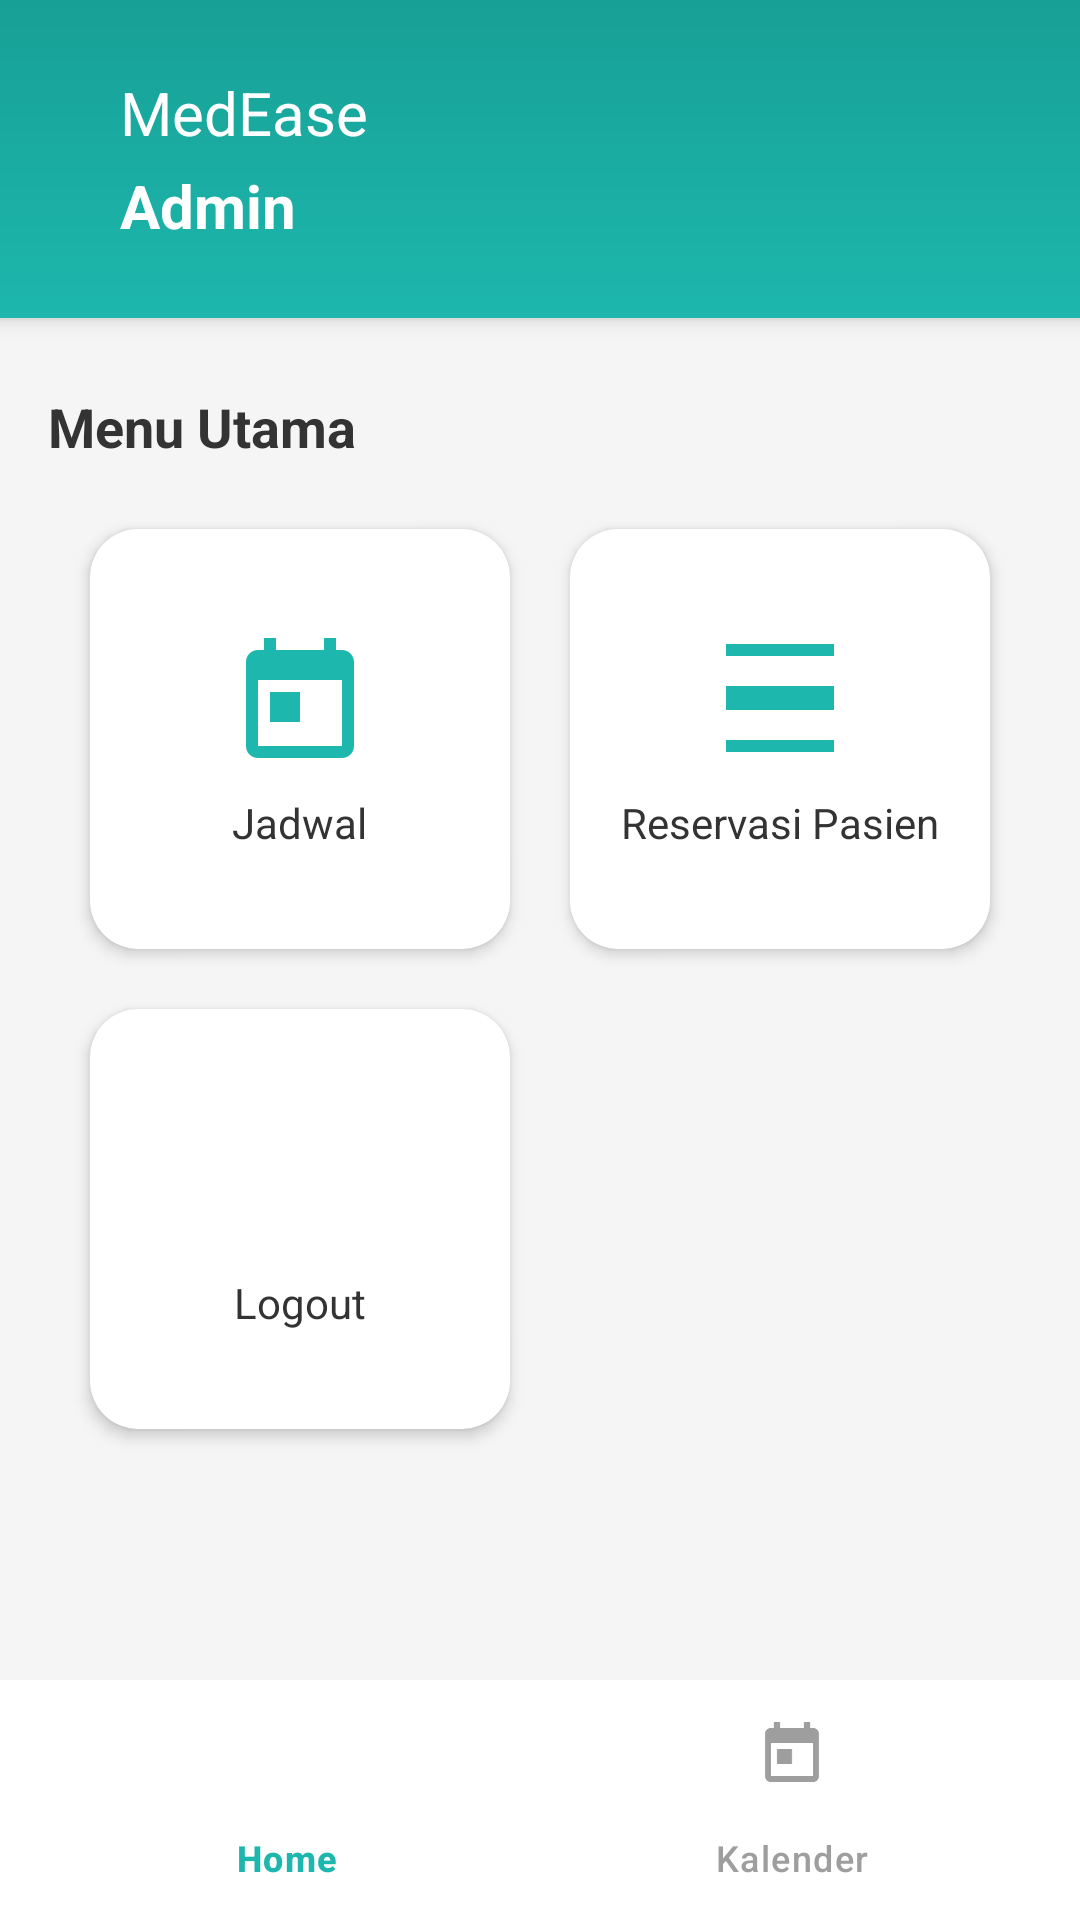

Locate icon controls on the screen. Image size 1080x1920, boxes as (x1, y1, x2, y2).
calendar: (246, 638, 354, 758)
